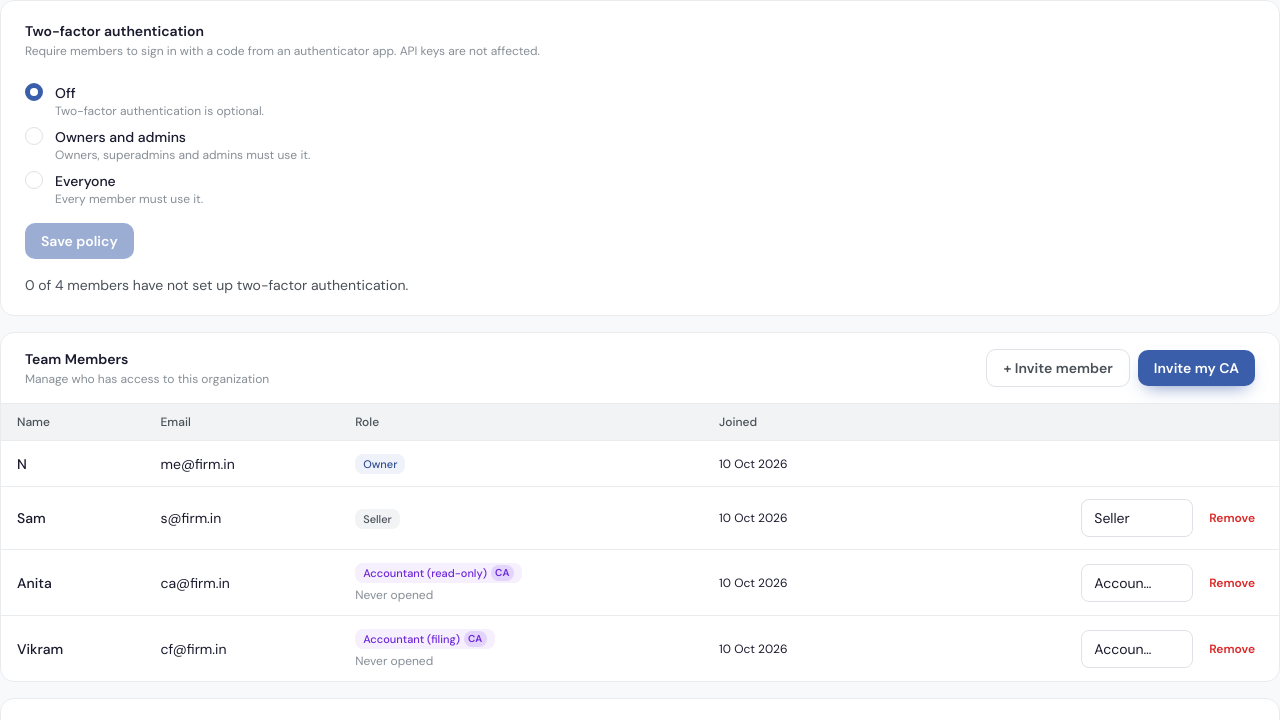
Scenario: Invite your CA dialog › offers the two access levels with their plain-language descriptions and the removal note
Click the button "Invite my CA". click: (1196, 368)
box: [1138,350,1255,386]
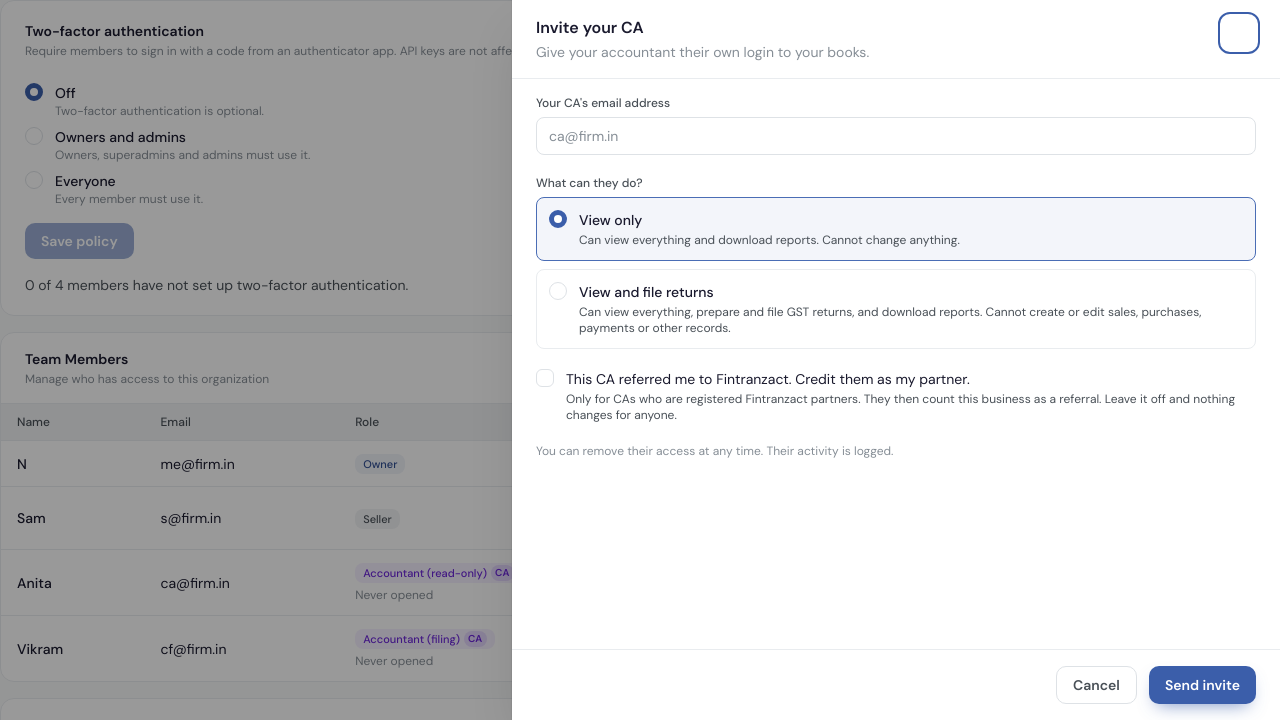
Check: the text "View only" is shown, box [579,211,642,229]
Check: the text "View and file returns" is shown, box [579,283,714,301]
Check: the text "Can view everything and download reports. Cannot change anything." is shown, box [579,232,960,248]
